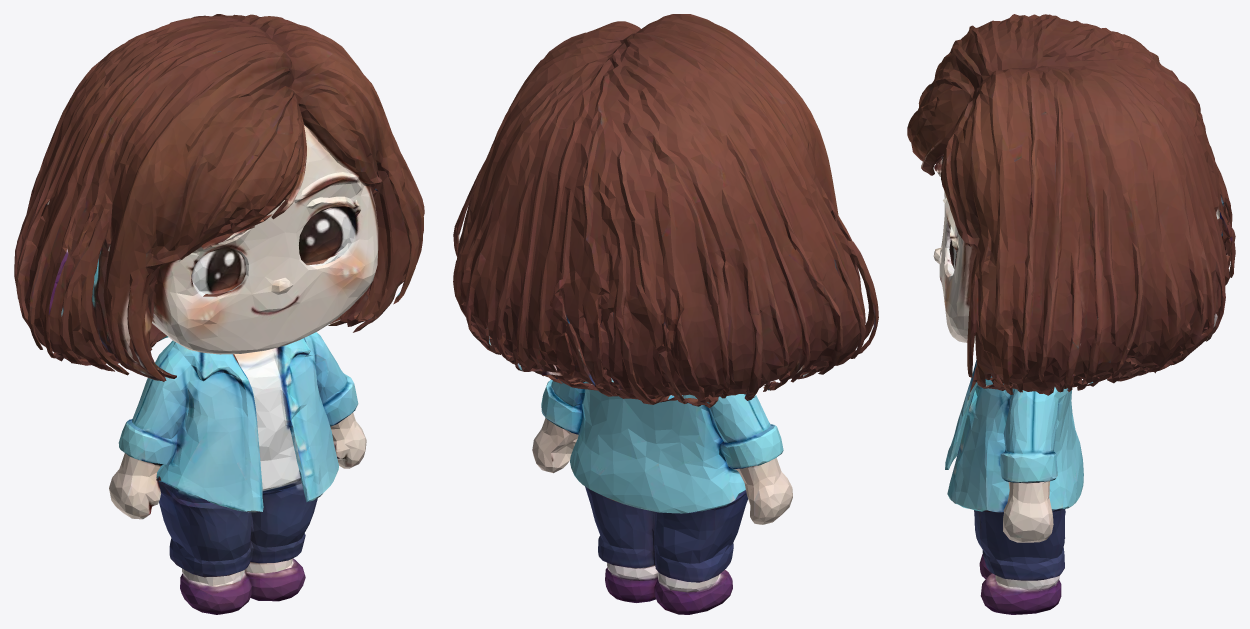
Rendered from huiwen.glb.
The picture shows the model from 3 angles, left to right: view 1: azimuth 30°, elevation 25°; view 2: azimuth 150°, elevation 25°; view 3: azimuth 270°, elevation 25°; orthographic projection.
Visible parts, largest first — view 1: tmpym3d3evo.ply; view 2: tmpym3d3evo.ply; view 3: tmpym3d3evo.ply.
Part boxes in pixels (x1,y1,x2,y2): tmpym3d3evo.ply: (14, 14, 424, 614); tmpym3d3evo.ply: (453, 14, 878, 614); tmpym3d3evo.ply: (907, 14, 1235, 614).
Bounding box in the file's own units: 2.18 × 3 × 1.59.
1 material, 1 textured.
